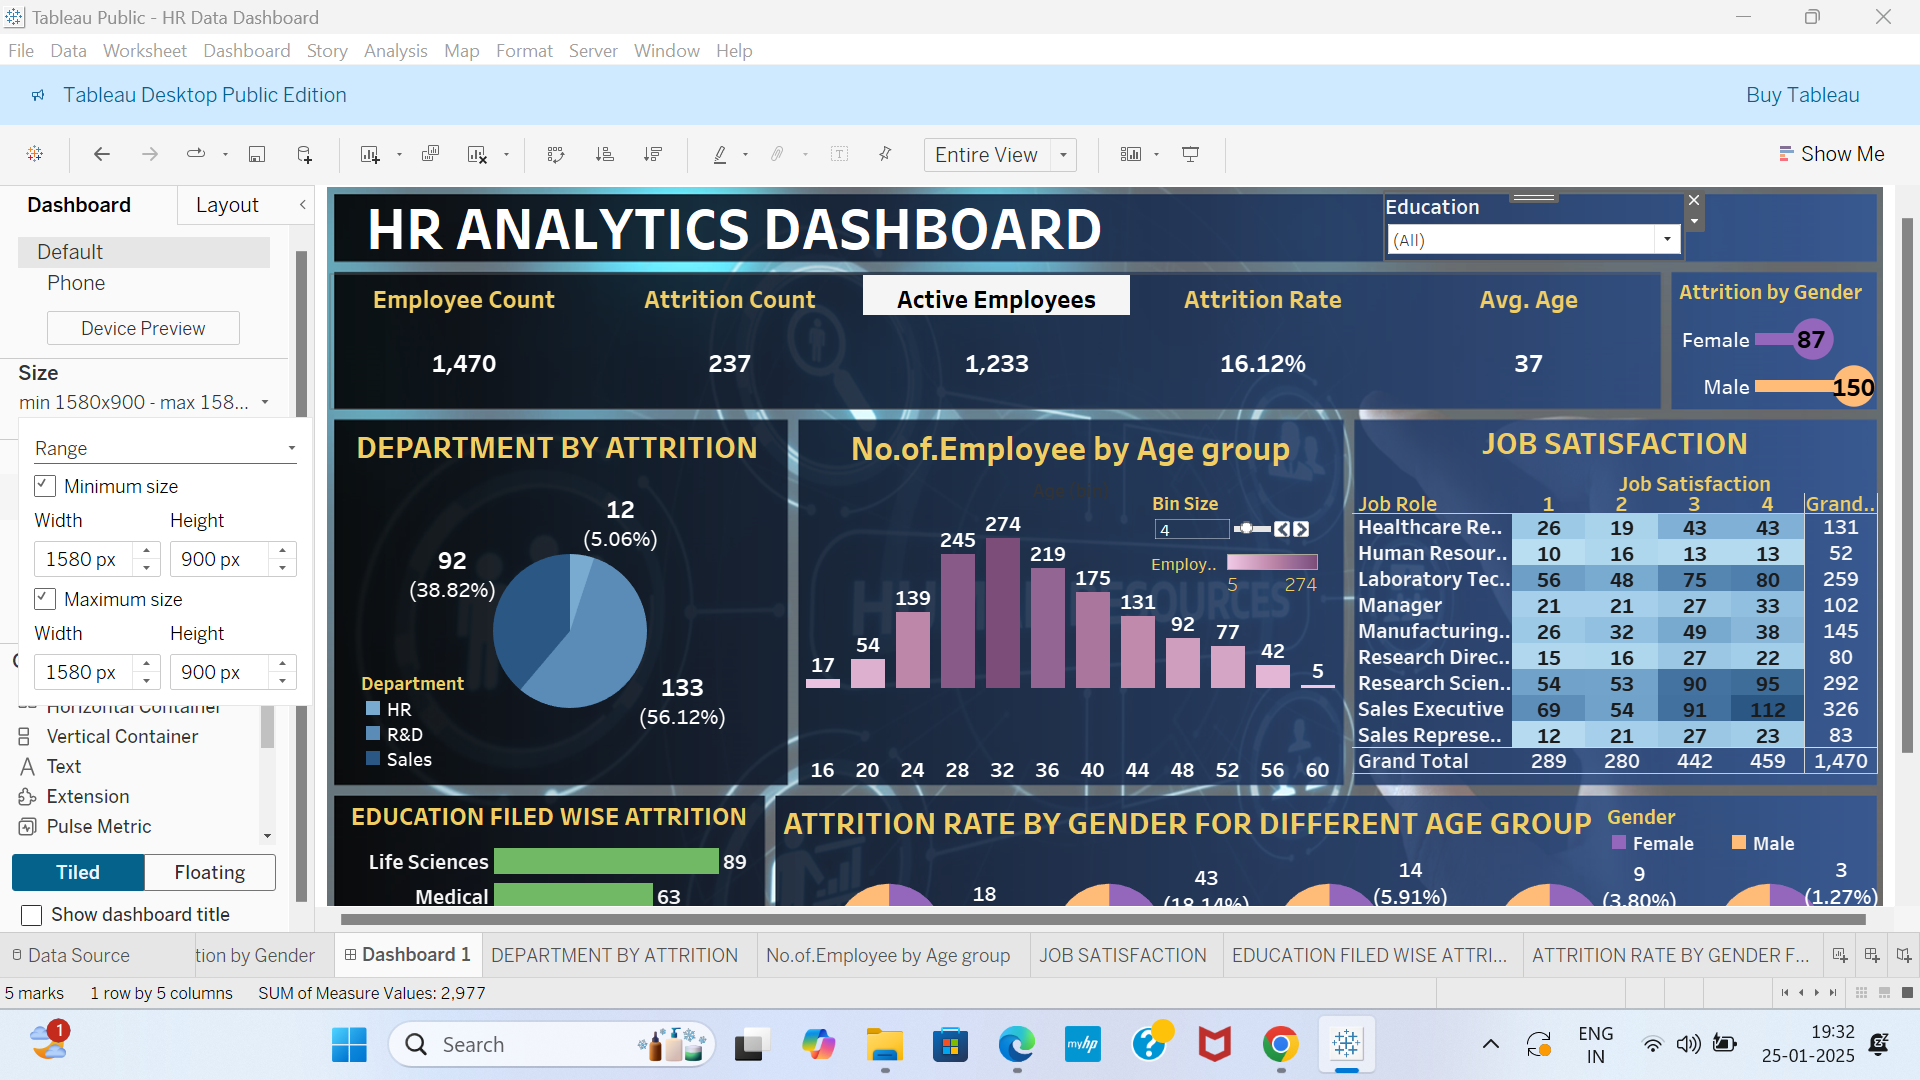

The dashboard page shown, as its layout file describes it:
{"tool":"tableau","page":{"name":"Dashboard 1","canvas":[1580,900],"ordinal":0},"visuals":[{"type":"image","param":"Image/HR background.png","box":[8,8,1564,884]},{"type":"filter","title":"KPI VALUES","param":"[federated.1yxtcg306mdifr19x7s6g0kpkiru].[none:Education:nk]","box":[1070,17,299,68]},{"type":"text","box":[47,18,982,67]},{"type":"worksheet","title":"Attrition by Gender","mark":"Automatic","rows":["Gender"],"cols":["Calculation_1606377699145875456","Calculation_1606377699145875456"],"box":[1360,98,205,137]},{"type":"worksheet","title":"KPI VALUES","mark":"Automatic","box":[16,100,1331,133]},{"type":"worksheet","title":"JOB SATISFACTION","mark":"Square","rows":["Job Role"],"cols":["Job Satisfaction"],"box":[1037,242,528,368]},{"type":"worksheet","title":"DEPARTMENT BY ATTRITION","mark":"Pie","box":[37,246,436,364]},{"type":"worksheet","title":"No.of.Employee by Age group","mark":"Automatic","rows":["Employee Count"],"cols":["Age (bin)"],"box":[485,246,541,362]},{"type":"parameter","param":"[Parameters].[Parameter 1]","box":[837,315,160,51]},{"type":"legend","title":"No.of.Employee by Age group","param":"[federated.1yxtcg306mdifr19x7s6g0kpkiru].[sum:Employee Count:qk]","box":[836,375,171,50]},{"type":"legend","title":"DEPARTMENT BY ATTRITION","param":"[federated.1yxtcg306mdifr19x7s6g0kpkiru].[none:Department:nk]","box":[46,495,111,101]},{"type":"worksheet","title":"EDUCATION FILED WISE ATTRITION","mark":"Automatic","rows":["Education Field"],"cols":["Calculation_1606377699145875456"],"box":[19,620,430,260]},{"type":"worksheet","title":"ATTRITION RATE BY GENDER FOR DIFFERENT AGE GROUP","mark":"Pie","rows":["Calculation_1047086924913033217","Calculation_1047086924913033217"],"cols":["CF_age band"],"box":[464,622,1101,260]},{"type":"legend","title":"ATTRITION RATE BY GENDER FOR DIFFERENT AGE GROUP","param":"[federated.1yxtcg306mdifr19x7s6g0kpkiru].[none:Gender:nk]","box":[1292,627,271,54]}]}

Visuals, with their boxes on the page's 1580x900 design canvas (x1, y1, x2, y2). These are canvas units, not pixel positions in the 1920x1080 screenshot, which may show the page scaled, cropped or inside an application window:
image: (8,8,1572,892)
"KPI VALUES" filter: (1070,17,1369,85)
text: (47,18,1029,85)
"Attrition by Gender" worksheet: (1360,98,1565,235)
"KPI VALUES" worksheet: (16,100,1347,233)
"JOB SATISFACTION" worksheet (Square marks): (1037,242,1565,610)
"DEPARTMENT BY ATTRITION" worksheet (Pie marks): (37,246,473,610)
"No.of.Employee by Age group" worksheet: (485,246,1026,608)
parameter: (837,315,997,366)
"No.of.Employee by Age group" legend: (836,375,1007,425)
"DEPARTMENT BY ATTRITION" legend: (46,495,157,596)
"EDUCATION FILED WISE ATTRITION" worksheet: (19,620,449,880)
"ATTRITION RATE BY GENDER FOR DIFFERENT AGE GROUP" worksheet (Pie marks): (464,622,1565,882)
"ATTRITION RATE BY GENDER FOR DIFFERENT AGE GROUP" legend: (1292,627,1563,681)
